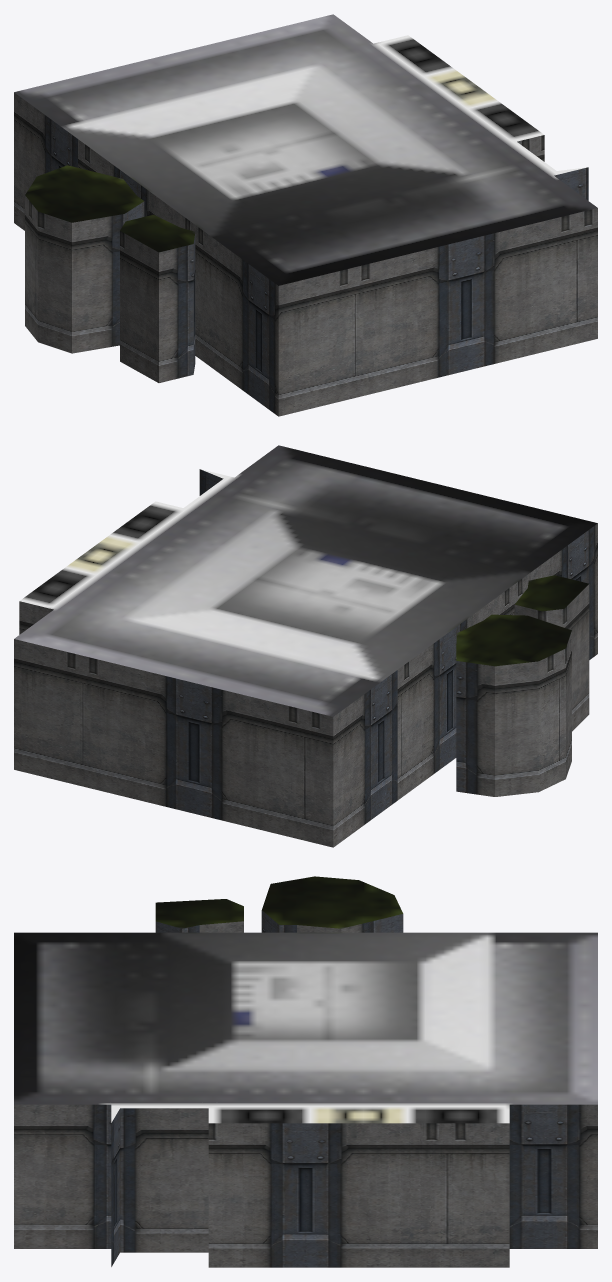
Rendered from BuildingSystem-02-Intermediate-03-Heavy-7-90.glb.
3 renders of one model, top to bottom at view 1: azimuth 30°, elevation 25°; view 2: azimuth 150°, elevation 25°; view 3: azimuth 270°, elevation 25°, orthographic. The views are drawn at different scales.
Visible parts, largest first — view 1: buildings/saxarba/SMV_Buildings/BuildingSystem-02-Intermedia; view 2: buildings/saxarba/SMV_Buildings/BuildingSystem-02-Intermedia; view 3: buildings/saxarba/SMV_Buildings/BuildingSystem-02-Intermedia.
Part boxes in pixels (left/top/right/bottom): buildings/saxarba/SMV_Buildings/BuildingSystem-02-Intermedia: left=14, top=14, right=597, bottom=416; buildings/saxarba/SMV_Buildings/BuildingSystem-02-Intermedia: left=14, top=445, right=597, bottom=847; buildings/saxarba/SMV_Buildings/BuildingSystem-02-Intermedia: left=14, top=876, right=597, bottom=1267.
Bounding box in the file's own units: 66 × 18 × 66.
